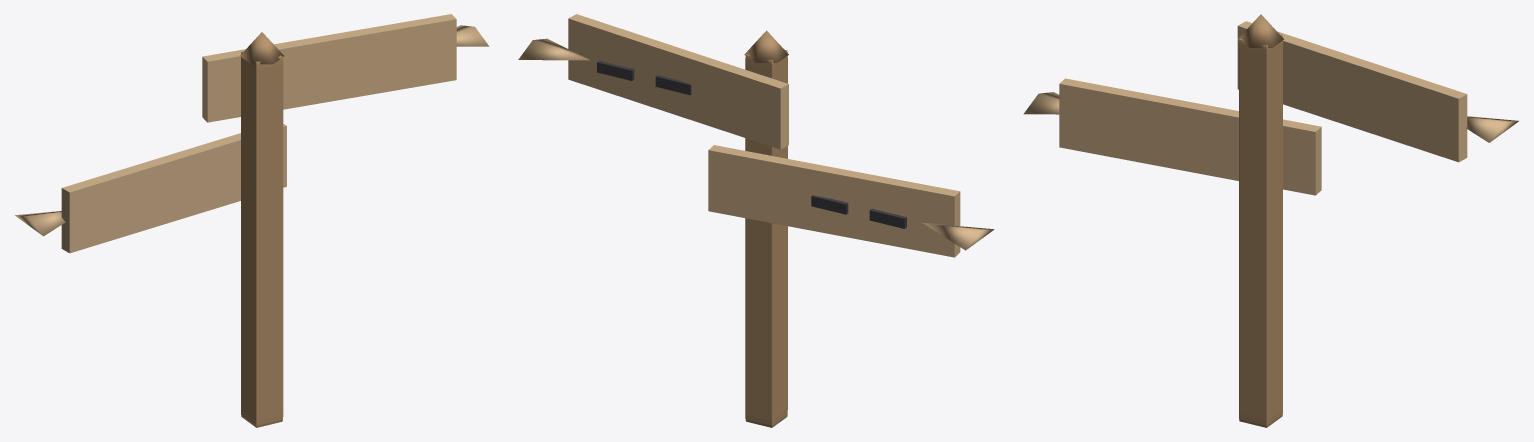
The model's file is world_signpost.glb.
The picture shows the model from 3 angles, left to right: view 1: azimuth 30°, elevation 25°; view 2: azimuth 150°, elevation 25°; view 3: azimuth 330°, elevation 25°; orthographic projection. The views are drawn at different scales.
Parts seen in each view (by area): view 1: world_signpost; view 2: world_signpost; view 3: world_signpost.
Boxes of the visible parts, bbox=[...] form: world_signpost: bbox=[15, 14, 489, 427]; world_signpost: bbox=[518, 14, 994, 427]; world_signpost: bbox=[1023, 14, 1518, 427].
Bounding box in the file's own units: 2.3 × 1.91 × 0.3199.
